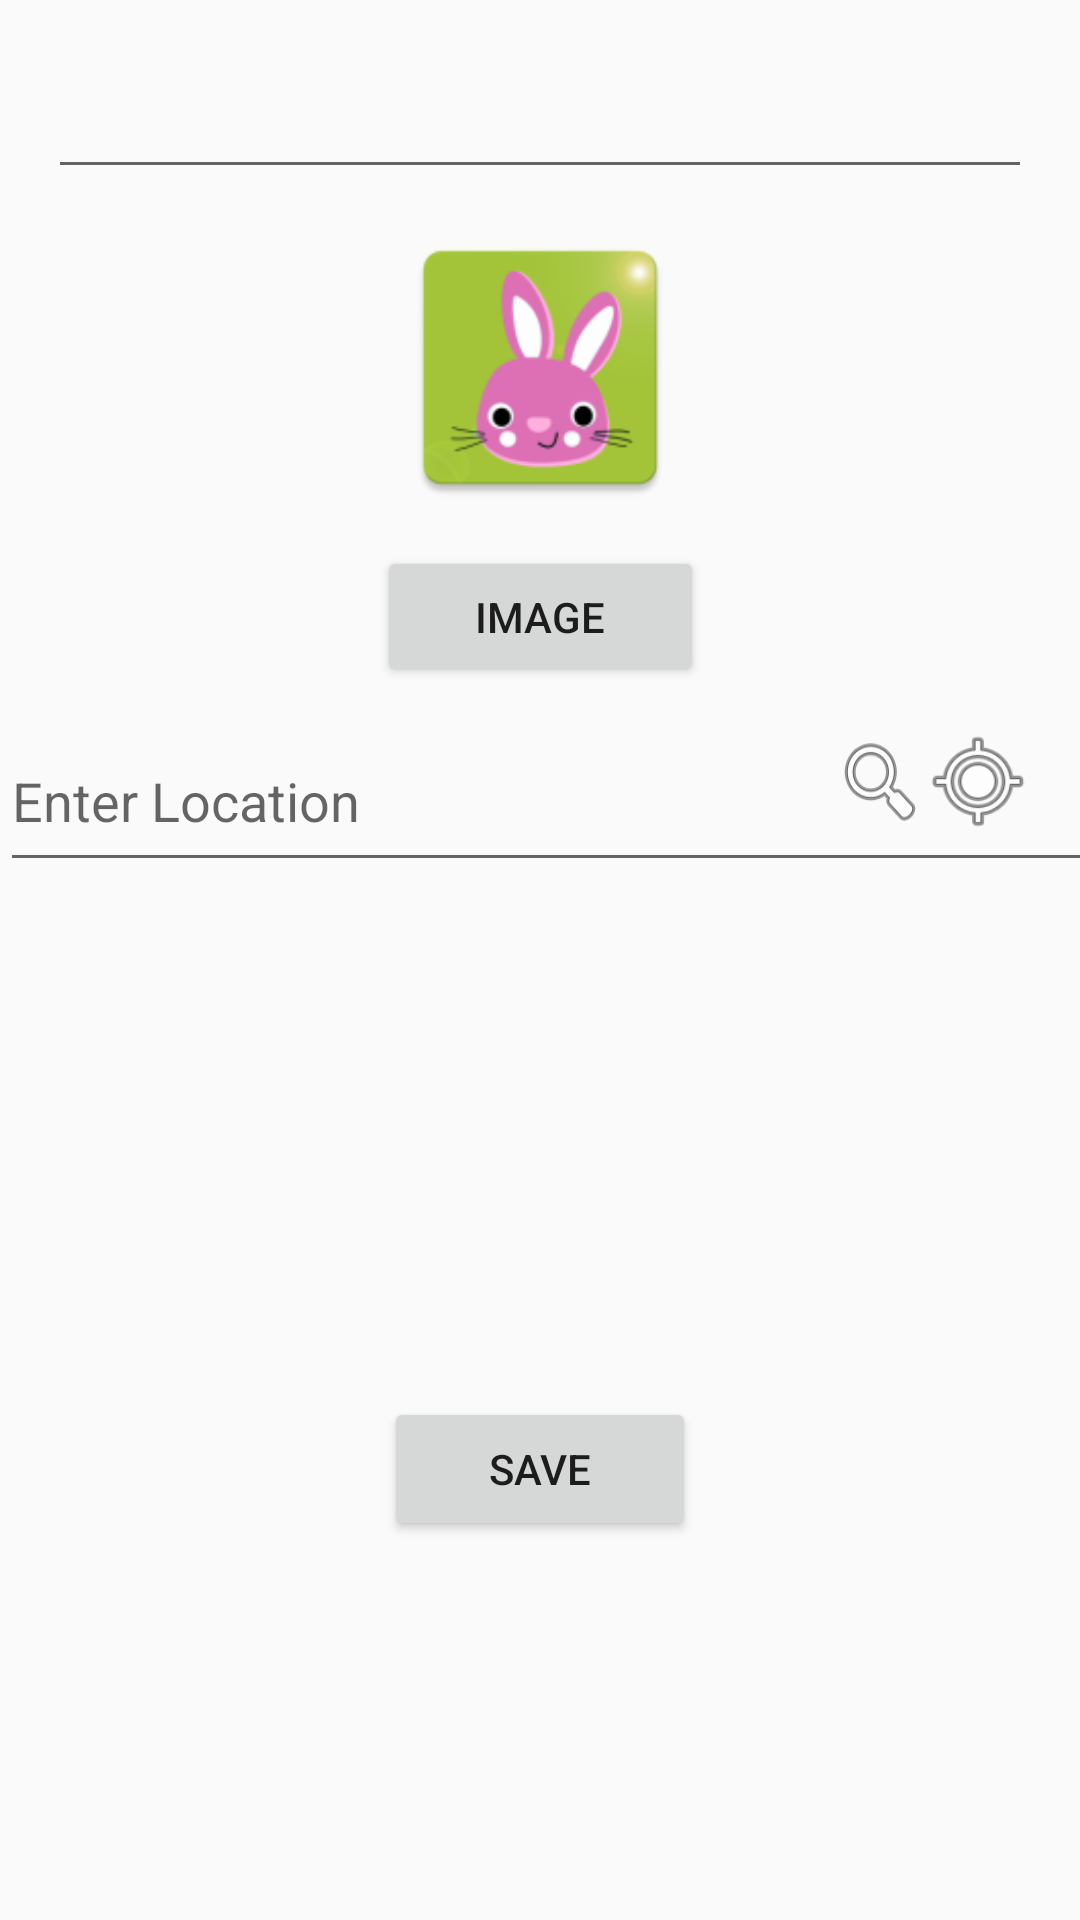

Point at icon controls on the screen. Image size 1080w x 1920h, points as (x=x, y=y).
mylocation: (x=978, y=781)
search: (x=880, y=782)
